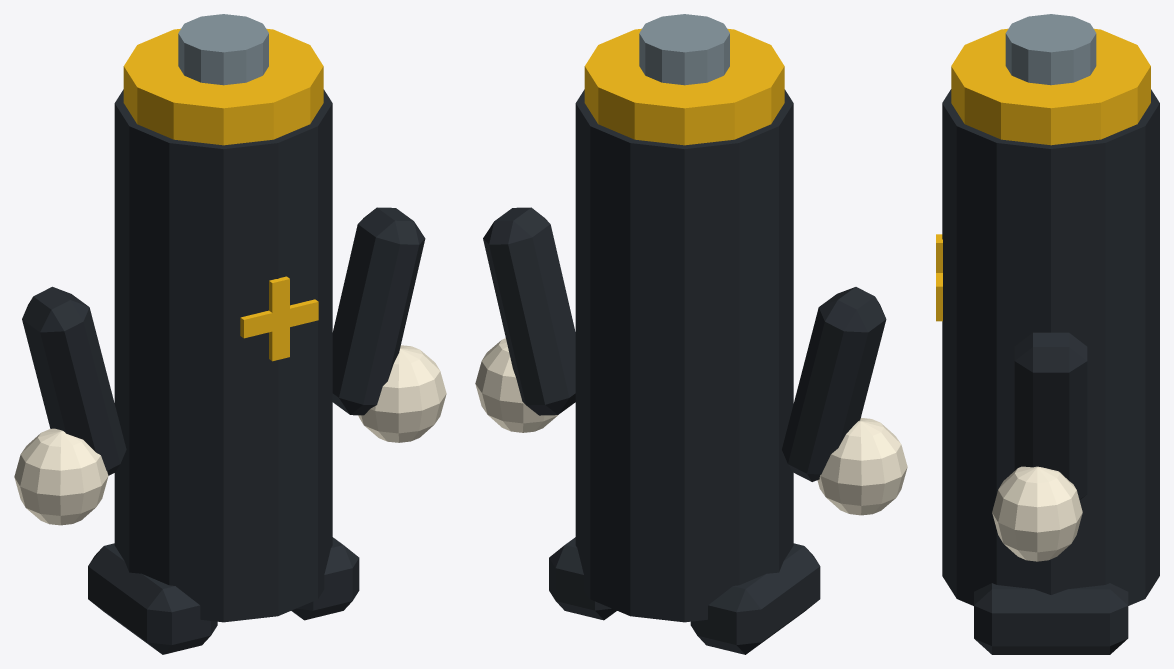
The model's file is battery.glb.
3 views of the same model, side by side, from view 1: azimuth 30°, elevation 25°; view 2: azimuth 150°, elevation 25°; view 3: azimuth 270°, elevation 25° (orthographic).
Parts seen in each view (by area): view 1: battery; view 2: battery; view 3: battery.
Part boxes in pixels (x1,y1,x2,y2): battery: [14, 14, 446, 654]; battery: [475, 14, 907, 654]; battery: [936, 14, 1159, 654].
Size of the model in its own units: 1.07 by 1.4 by 0.4935.
